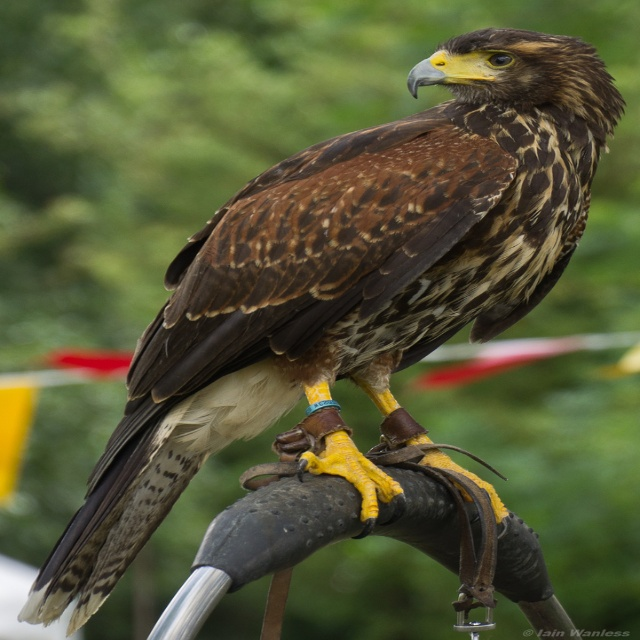Eagle: (17, 26, 627, 639)
